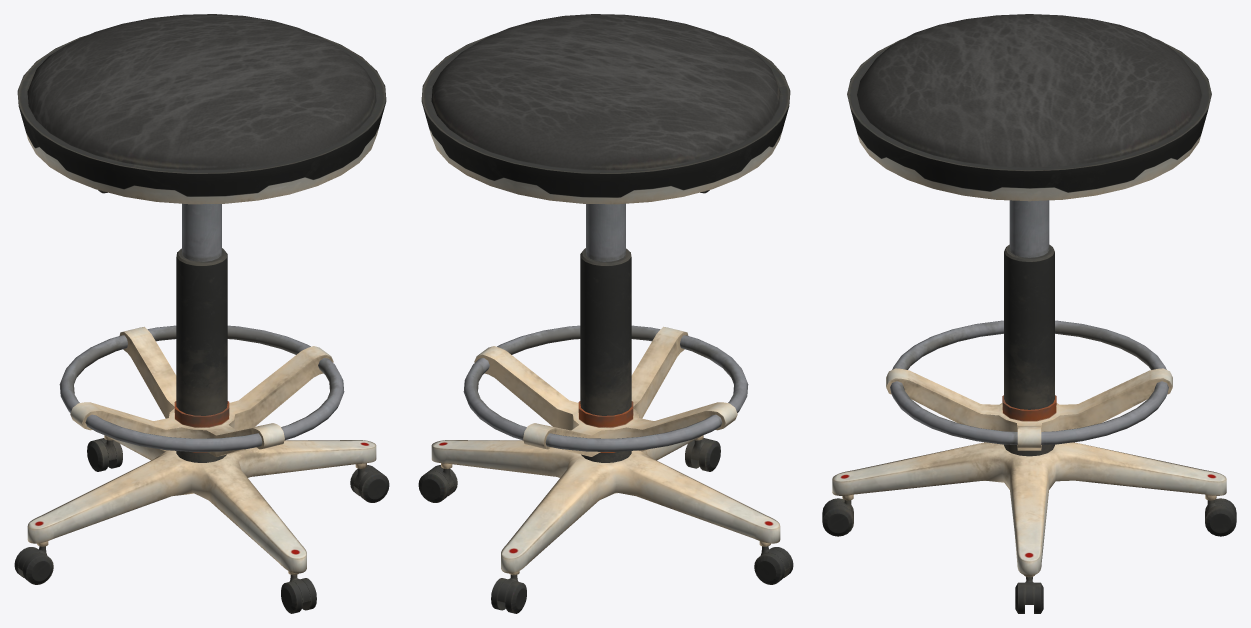
The model's file is lab_chair.glb.
3 renders of one model, left to right at view 1: azimuth 30°, elevation 25°; view 2: azimuth 150°, elevation 25°; view 3: azimuth 270°, elevation 25°, orthographic.
Visible parts, largest first — view 1: TerminalChair; view 2: TerminalChair; view 3: TerminalChair.
Boxes of the visible parts, <box> form: TerminalChair: <box>14,14,389,613</box>; TerminalChair: <box>418,14,793,613</box>; TerminalChair: <box>822,14,1236,613</box>.
Bounding box in the file's own units: 17.66 × 22.05 × 17.66.
1 material, 1 textured.
